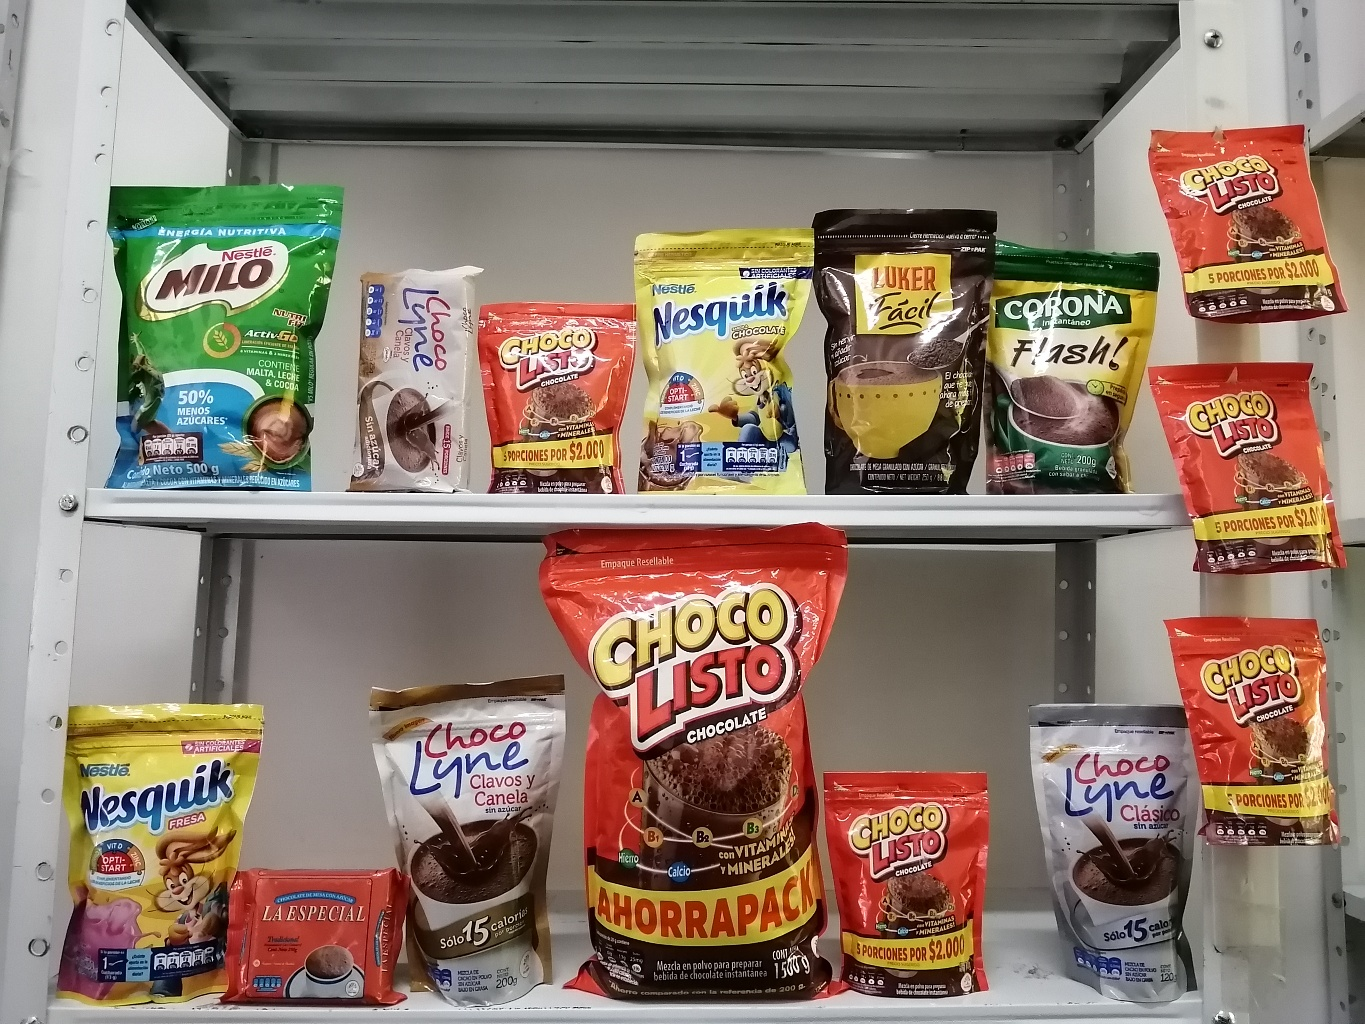COL0170103DYP1,500: (536, 520, 861, 1009)
COL0170205DYP50000: (111, 170, 350, 499)
COL0170303DYP20000: (630, 221, 824, 501)
COL0170305DYP20000: (63, 689, 255, 1005)
